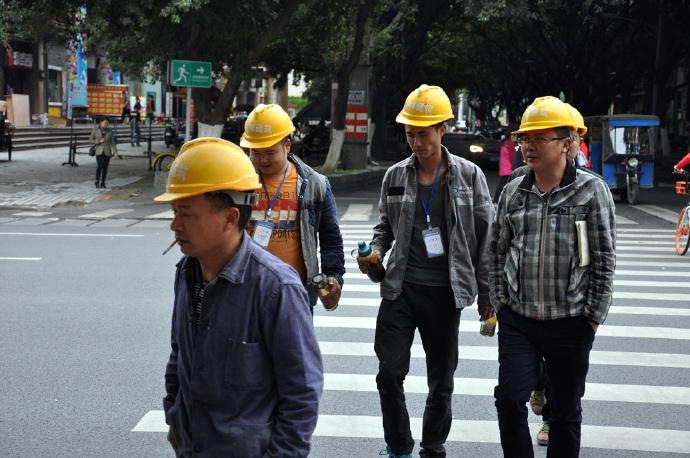helmet: (155, 138, 263, 202), (398, 78, 457, 127), (240, 105, 300, 151), (514, 98, 571, 135), (564, 106, 591, 134)
